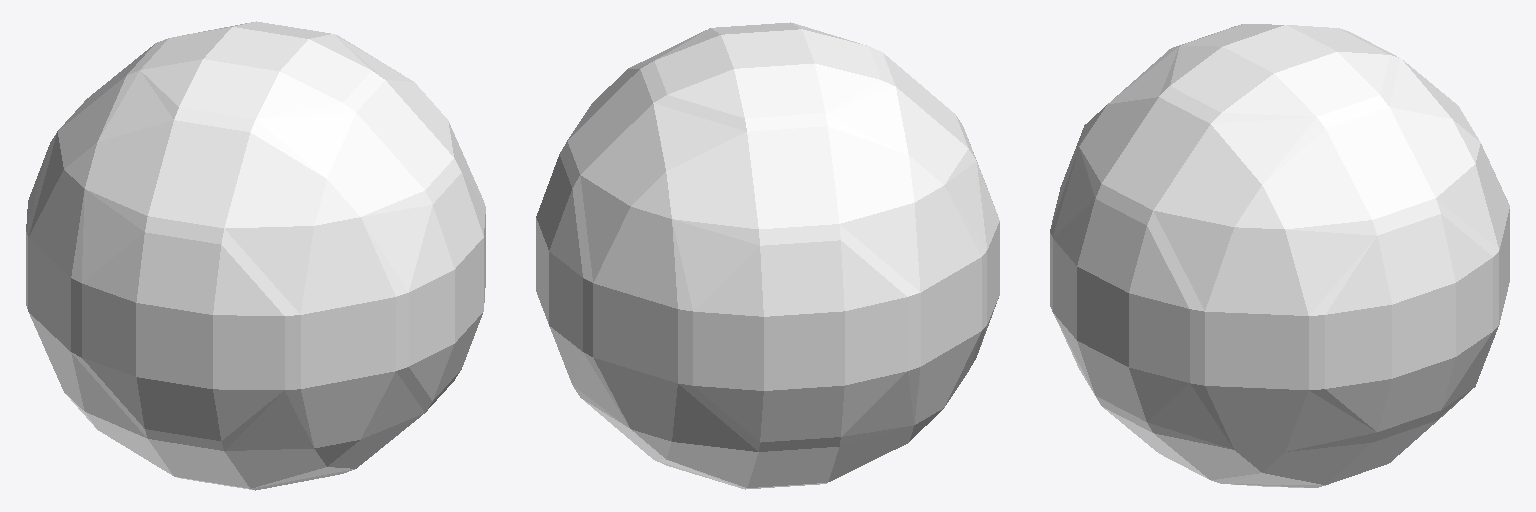
Rendered from sphereNormalMap.obj.
3 views of the same model, side by side, from view 1: azimuth 30°, elevation 25°; view 2: azimuth 150°, elevation 25°; view 3: azimuth 270°, elevation 25° (orthographic).
Visible parts, largest first — view 1: Mball; view 2: Mball; view 3: Mball.
Boxes of the visible parts, <box> form: Mball: <box>26,21,485,490</box>; Mball: <box>536,22,999,489</box>; Mball: <box>1050,24,1509,487</box>.
Bounding box in the file's own units: 0.6918 × 0.6864 × 0.6918.